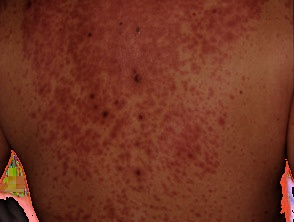SJS-TEN: (12, 0, 280, 222)
